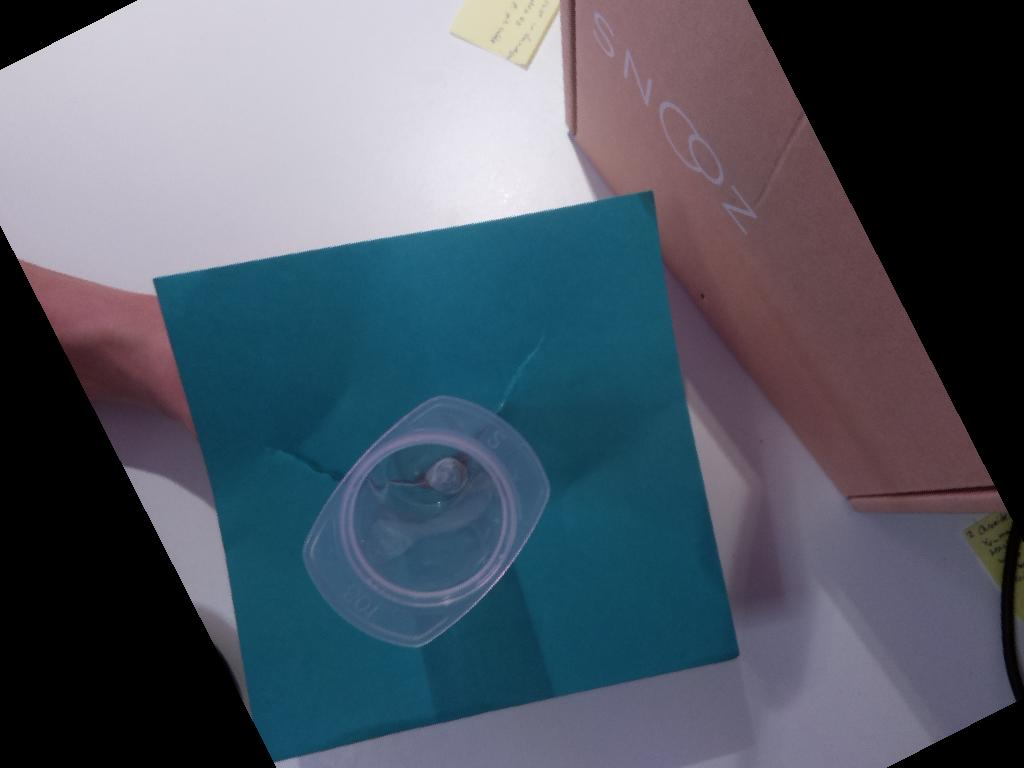clean: (302, 395, 550, 649)
